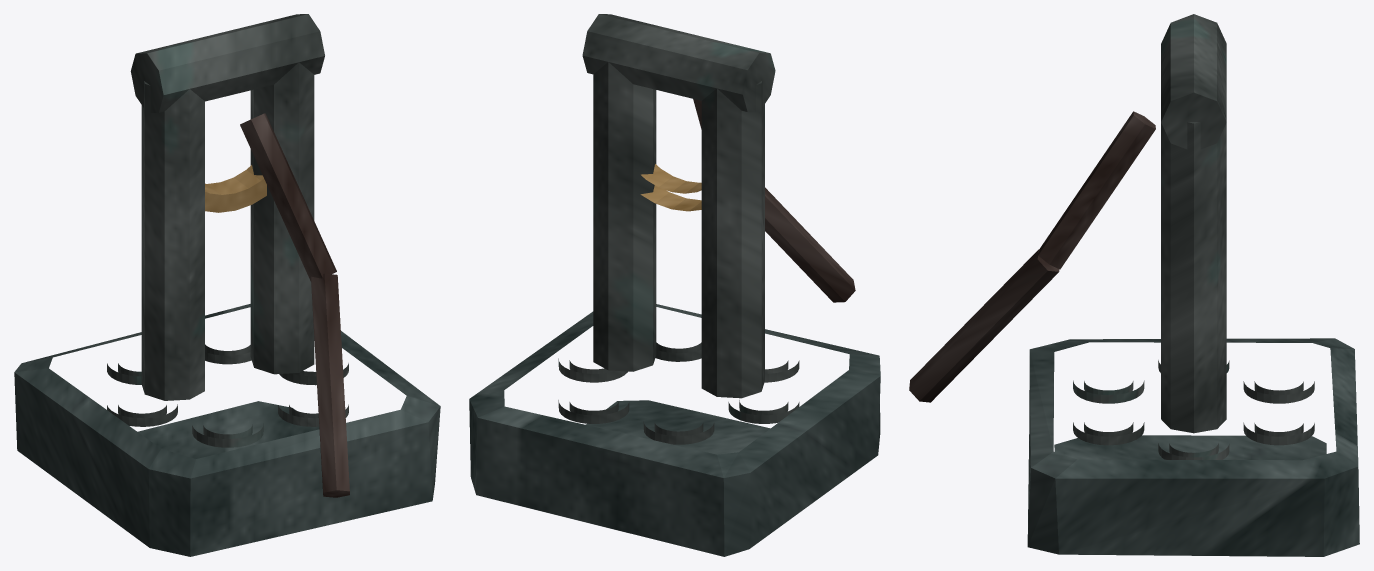
File: 0697_rope_anchor_22.glb
3 views of the same model, side by side, from view 1: azimuth 30°, elevation 25°; view 2: azimuth 150°, elevation 25°; view 3: azimuth 270°, elevation 25° (orthographic).
Parts seen in each view (by area): view 1: iron, stone_dark, wood_dark, brass; view 2: iron, stone_dark, wood_dark, brass; view 3: stone_dark, iron, wood_dark.
Part boxes in pixels (<box>): iron: <box>107,14,348,447</box>; stone_dark: <box>14,304,440,556</box>; wood_dark: <box>240,113,349,497</box>; brass: <box>205,165,266,212</box>; iron: <box>558,14,799,444</box>; stone_dark: <box>469,304,880,556</box>; wood_dark: <box>693,99,855,302</box>; brass: <box>640,164,701,211</box>; stone_dark: <box>1027,338,1359,556</box>; iron: <box>1073,14,1314,459</box>; wood_dark: <box>909,111,1155,402</box>.
Size of the model in its own units: 1.21 by 1.78 by 1.65.
Materials: 4 (4 with a texture image).
